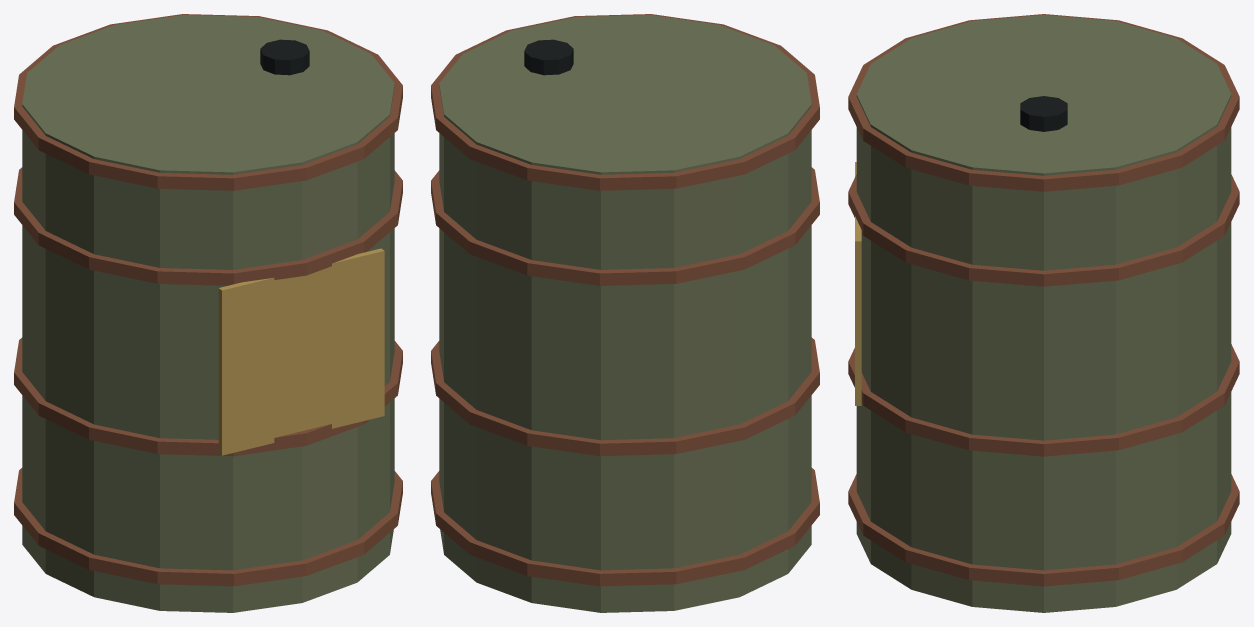
File: fallout_barrel.glb
The picture shows the model from 3 angles, left to right: view 1: azimuth 30°, elevation 25°; view 2: azimuth 150°, elevation 25°; view 3: azimuth 270°, elevation 25°; orthographic projection.
Visible parts, largest first — view 1: barrel.002, warning_label, steel_rim.003, steel_rim, steel_rim.002, steel_rim.001, cap; view 2: barrel.002, steel_rim.003, steel_rim.002, steel_rim, steel_rim.001, cap; view 3: barrel.002, steel_rim.003, steel_rim, steel_rim.002, steel_rim.001, cap, warning_label.
Boxes of the visible parts, box(x1,y1,x2,y2) form: barrel.002: box(22, 15, 394, 612); warning_label: box(218, 248, 384, 455); steel_rim.003: box(14, 14, 402, 190); steel_rim: box(14, 468, 402, 586); steel_rim.002: box(14, 167, 402, 285); steel_rim.001: box(14, 337, 402, 456); cap: box(260, 39, 309, 75); barrel.002: box(439, 15, 811, 612); steel_rim.003: box(431, 14, 819, 190); steel_rim.002: box(431, 167, 819, 285); steel_rim: box(431, 468, 819, 586); steel_rim.001: box(431, 337, 819, 456); cap: box(524, 39, 573, 75); barrel.002: box(856, 15, 1231, 612); steel_rim.003: box(848, 14, 1239, 191); steel_rim: box(848, 474, 1239, 586); steel_rim.002: box(848, 174, 1239, 286); steel_rim.001: box(848, 344, 1239, 456); cap: box(1020, 96, 1067, 131); warning_label: box(855, 162, 861, 405).
Bounding box in the file's own units: 0.71 × 0.93 × 0.71.
